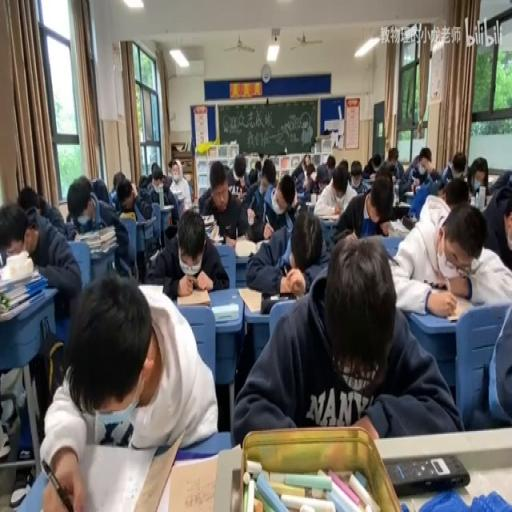calculator: (162, 452, 222, 512), (440, 294, 475, 323), (372, 234, 402, 258), (237, 284, 262, 312), (176, 287, 210, 306), (212, 302, 238, 322), (234, 238, 258, 256), (386, 218, 408, 236), (317, 209, 341, 221), (202, 214, 215, 234), (133, 215, 155, 226), (120, 209, 136, 221), (170, 188, 185, 200), (297, 189, 310, 202), (254, 239, 264, 252), (186, 202, 198, 212), (149, 248, 159, 260), (305, 198, 315, 206), (160, 204, 173, 210), (404, 191, 414, 196), (368, 172, 375, 179)
paper: (233, 236, 456, 445), (41, 273, 216, 512), (390, 193, 510, 310), (2, 199, 80, 314), (245, 203, 326, 296), (148, 206, 227, 299), (462, 278, 510, 430), (66, 174, 132, 280), (332, 171, 398, 243), (36, 323, 67, 404), (145, 162, 179, 225), (197, 159, 232, 216), (402, 146, 434, 190), (303, 156, 332, 195), (224, 154, 250, 194), (466, 155, 488, 198), (380, 145, 405, 182), (16, 185, 42, 216), (444, 176, 470, 206), (243, 214, 268, 244), (346, 158, 366, 192), (488, 168, 511, 195), (110, 170, 126, 204), (90, 176, 108, 205), (260, 158, 276, 190), (450, 151, 466, 179), (293, 165, 307, 195), (440, 163, 454, 185), (333, 228, 352, 243), (183, 174, 194, 196), (247, 166, 258, 185), (325, 154, 335, 174), (428, 168, 441, 183), (338, 158, 348, 175), (370, 154, 380, 169), (152, 174, 162, 189), (138, 175, 148, 188), (302, 154, 310, 170), (130, 181, 138, 196), (254, 160, 261, 170)
person: (384, 452, 470, 494), (10, 467, 34, 509), (261, 292, 296, 314), (393, 205, 410, 220), (216, 235, 226, 243)
